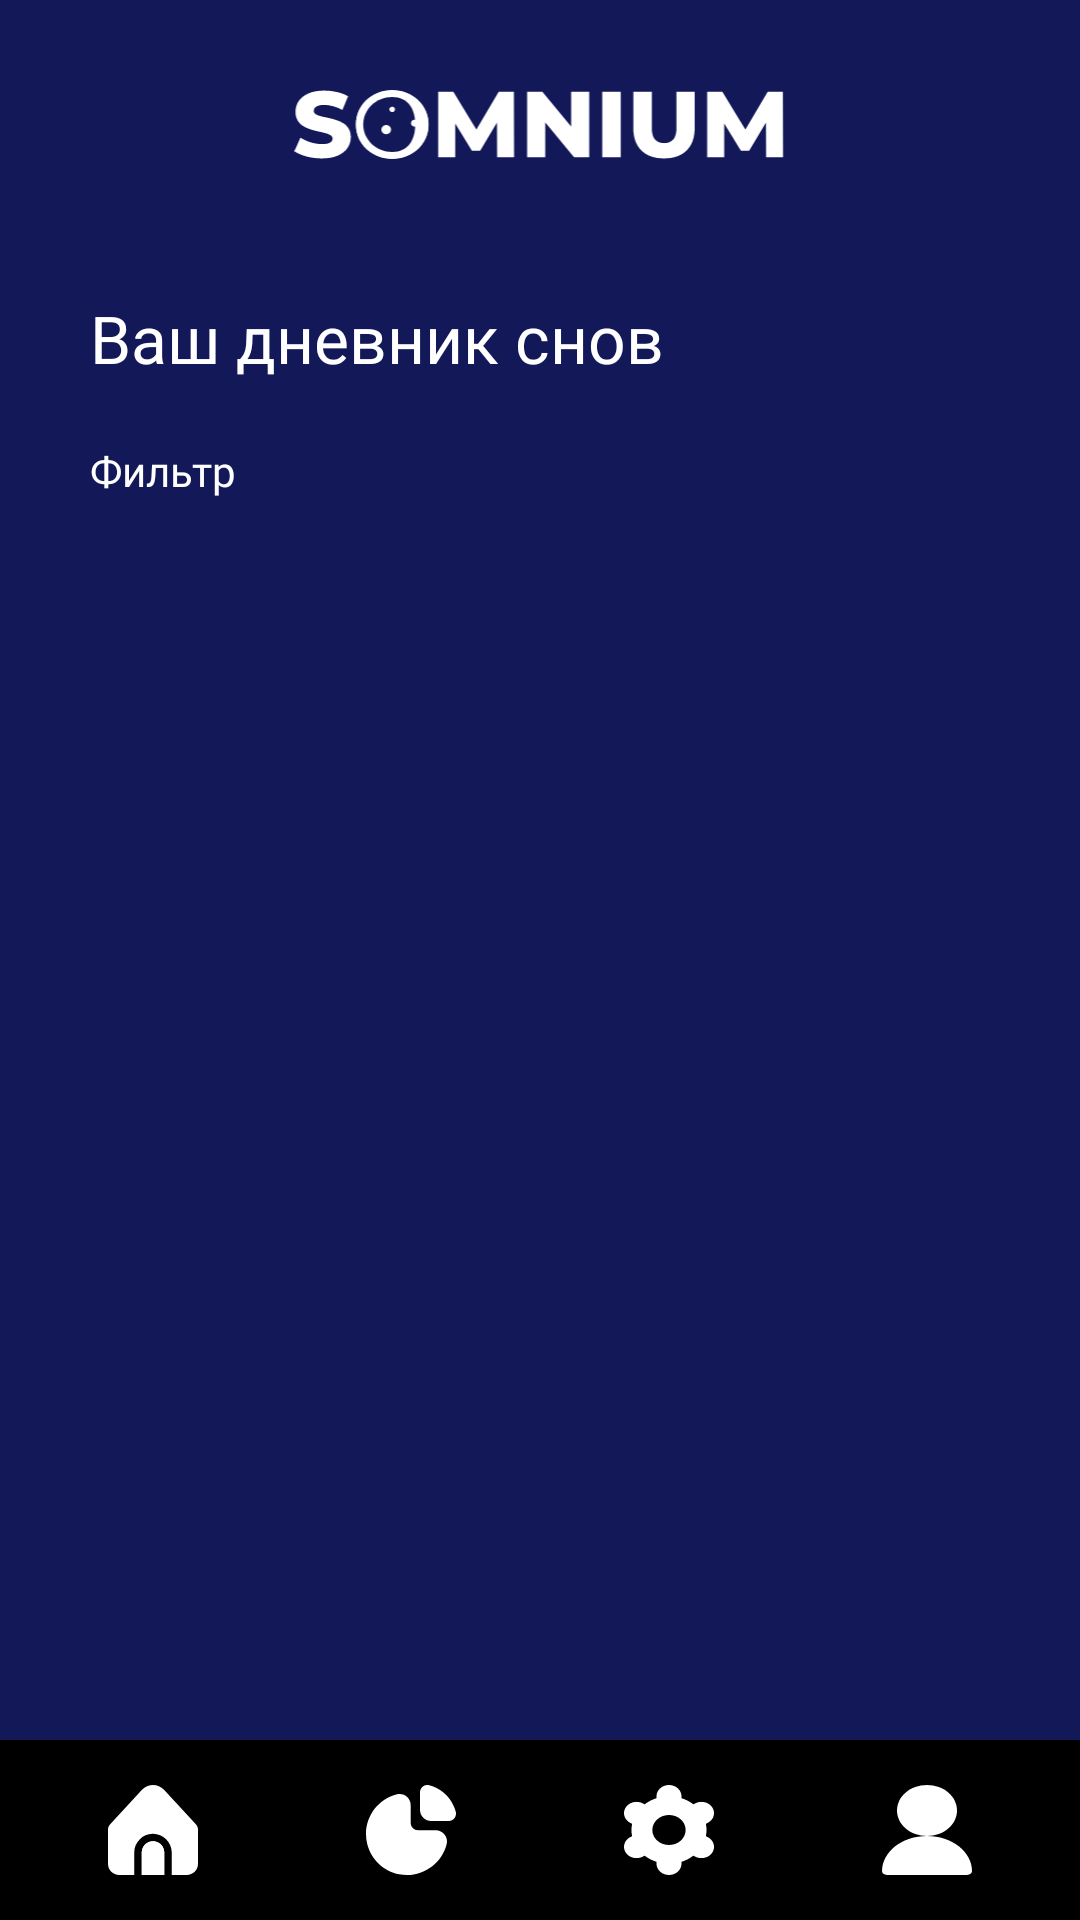

Locate icon controls on the screen. Image size 1080x1920, boxes as (x1, y1, x2, y2).
Анализ: (366, 1785, 456, 1875)
Главная: (108, 1785, 198, 1875)
Настройки: (624, 1785, 714, 1875)
Профиль: (882, 1785, 972, 1875)
